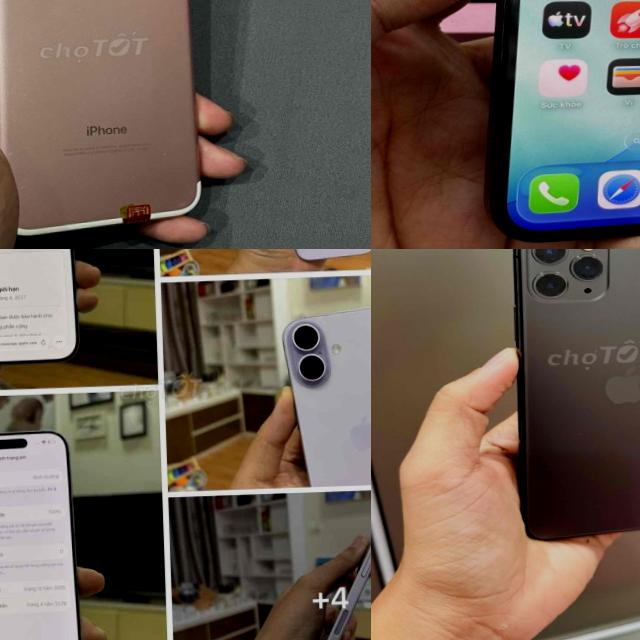scratch: (571, 420, 593, 448)
